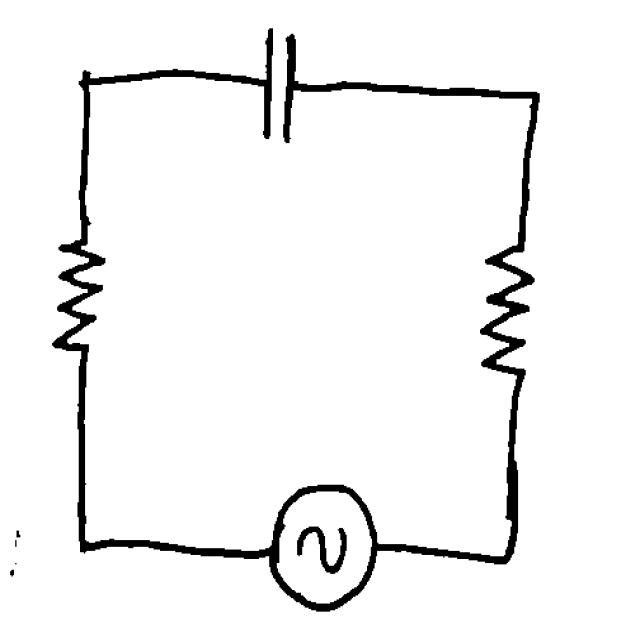ac: (264, 476, 384, 620)
capacitor: (248, 19, 312, 157)
resistor: (42, 224, 115, 364), (475, 232, 540, 388)
